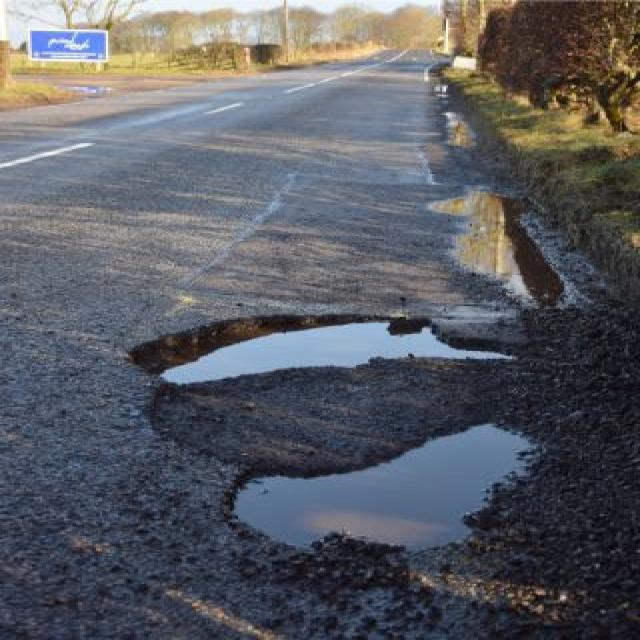pothole: (218, 413, 542, 564), (114, 304, 524, 390)
